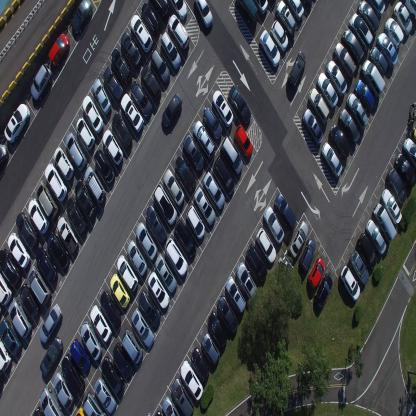car: (4, 102, 30, 144), (101, 355, 125, 400), (44, 229, 70, 270), (61, 353, 85, 396), (120, 91, 144, 133), (180, 359, 204, 401), (39, 336, 64, 376), (372, 202, 397, 242), (153, 184, 177, 225), (38, 303, 62, 344), (8, 298, 32, 339), (135, 220, 158, 262), (131, 306, 154, 348), (56, 214, 79, 256), (28, 264, 51, 306), (227, 84, 251, 124), (154, 254, 178, 294), (44, 162, 67, 203), (300, 107, 324, 146), (36, 180, 58, 222), (84, 164, 106, 206), (130, 13, 153, 53), (219, 137, 243, 175), (164, 238, 188, 276), (34, 245, 58, 283), (349, 13, 373, 51), (361, 59, 385, 97), (193, 120, 215, 161), (216, 293, 238, 334), (66, 196, 88, 237), (64, 131, 86, 172), (130, 79, 152, 120), (181, 135, 204, 174), (173, 219, 196, 258), (356, 0, 380, 37), (81, 320, 102, 362), (75, 180, 97, 220), (162, 168, 184, 208), (144, 205, 166, 245), (262, 204, 284, 244), (52, 370, 74, 410), (90, 304, 112, 344), (346, 91, 368, 131), (202, 172, 225, 210), (212, 156, 235, 194), (193, 188, 216, 226), (147, 271, 170, 309), (235, 261, 258, 299), (138, 289, 161, 327), (171, 377, 194, 415), (167, 14, 190, 52), (93, 376, 116, 414), (82, 95, 104, 134), (274, 192, 296, 231), (99, 289, 121, 328), (245, 243, 268, 280), (110, 46, 131, 86), (225, 274, 246, 314), (0, 317, 21, 357), (211, 89, 233, 127), (174, 156, 196, 194), (111, 111, 133, 149), (16, 211, 38, 249), (259, 29, 281, 67), (316, 71, 338, 109), (120, 328, 143, 364), (7, 232, 30, 268), (341, 28, 364, 64), (333, 42, 356, 78), (320, 142, 343, 178), (160, 31, 181, 70), (117, 253, 138, 292), (102, 129, 124, 166), (28, 198, 50, 235), (140, 63, 162, 100), (120, 32, 142, 69), (161, 92, 183, 129), (308, 87, 330, 124), (30, 62, 51, 100), (288, 221, 309, 259), (0, 248, 21, 286), (339, 264, 360, 302), (48, 32, 70, 68), (275, 0, 297, 36), (326, 60, 348, 96), (329, 124, 351, 160), (365, 219, 387, 255), (127, 240, 148, 277), (94, 148, 115, 185), (339, 108, 360, 145), (376, 32, 398, 67), (394, 153, 416, 188), (103, 65, 123, 103), (207, 310, 227, 348), (256, 226, 276, 264), (287, 50, 307, 88), (386, 166, 406, 204), (358, 232, 378, 270), (109, 273, 130, 309), (69, 337, 90, 373), (381, 188, 402, 224), (70, 1, 92, 35), (140, 0, 160, 37), (349, 249, 369, 286), (19, 283, 40, 318), (186, 204, 206, 240), (306, 256, 326, 292), (112, 342, 132, 378), (39, 386, 63, 416), (92, 78, 111, 115), (201, 106, 221, 141), (150, 49, 170, 84), (314, 273, 332, 311), (393, 0, 412, 36), (54, 146, 74, 180), (201, 331, 221, 365), (76, 115, 95, 150), (191, 347, 210, 381), (355, 78, 374, 112), (269, 20, 289, 52), (384, 17, 404, 49), (235, 0, 258, 26), (299, 238, 316, 273), (234, 124, 252, 157), (369, 45, 388, 76), (194, 0, 214, 29), (82, 392, 106, 415), (402, 136, 416, 174), (167, 0, 188, 20), (0, 272, 12, 307), (148, 0, 170, 19), (287, 0, 305, 22), (0, 338, 11, 372), (162, 395, 180, 415), (367, 0, 387, 18), (401, 0, 415, 19), (0, 142, 9, 168), (253, 0, 268, 15), (74, 406, 87, 416), (33, 405, 45, 415), (411, 124, 416, 145), (152, 409, 163, 415)
